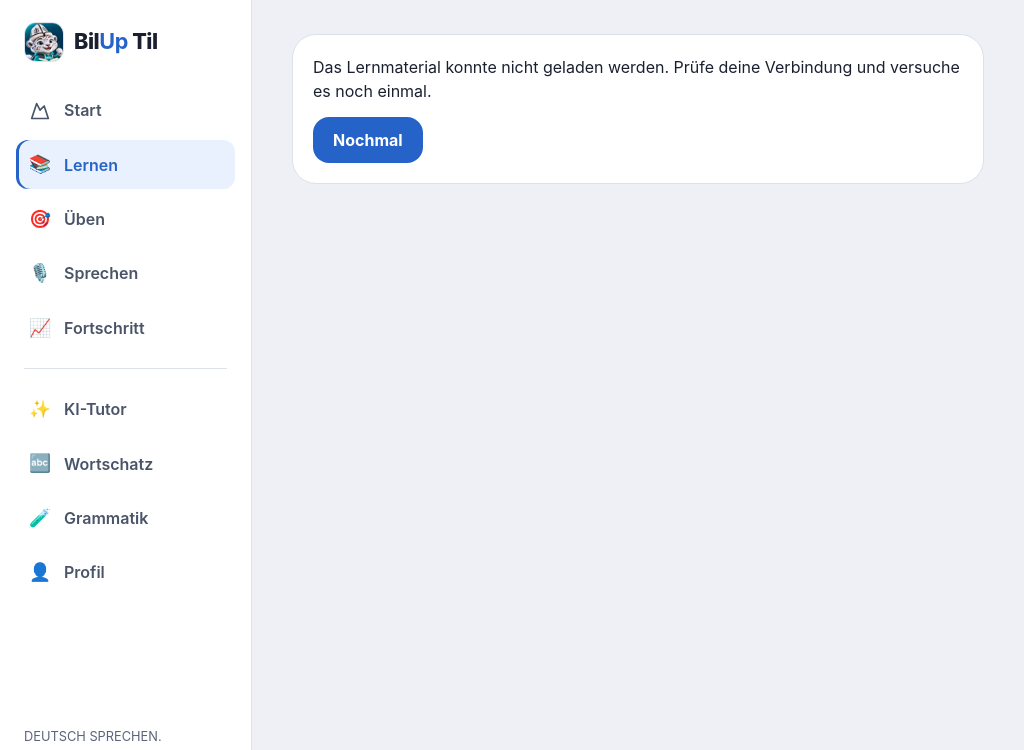
Scenario: shows a localised failure with a retry; retry re-requests the chunk without reloading and then shows the content
The image size is (1024, 750).
Expected: the message shows "Das Lernmaterial konnte nicht geladen werden. Prüfe deine Verbindung und versuche es noch einmal.", 313,57 -> 960,101
Click the button "Nochmal". click: (368, 140)
box: 313,117 -> 423,163
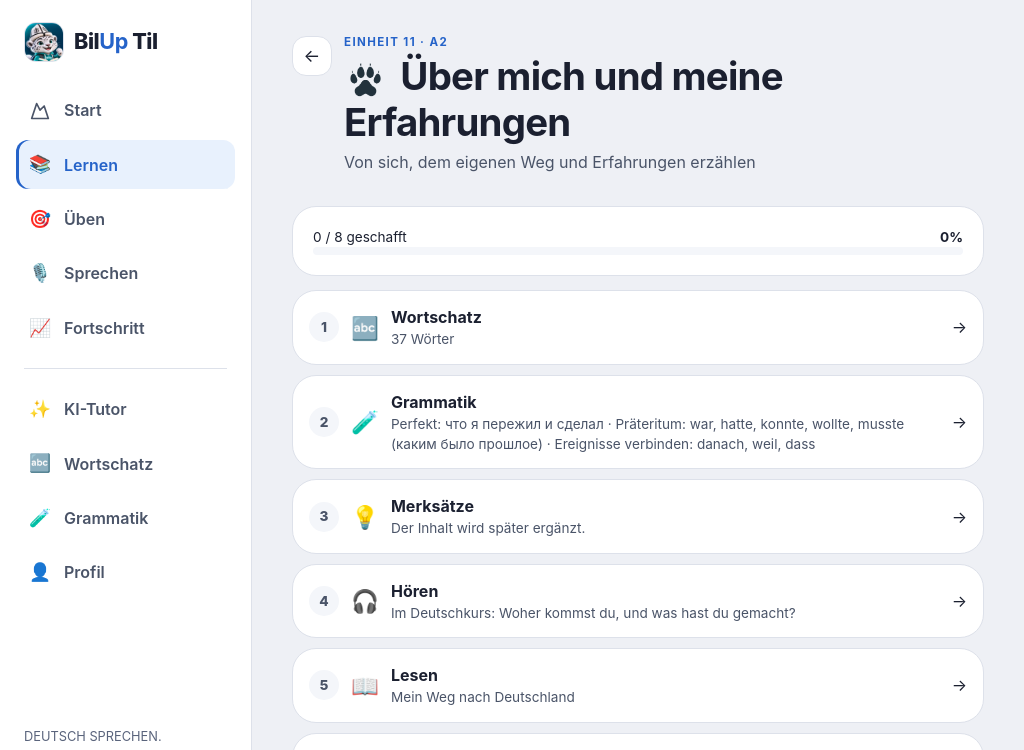
Expected: the text "Über mich und meine Erfahrungen" is shown, 344,53 -> 783,145
Expected: the message is gone
